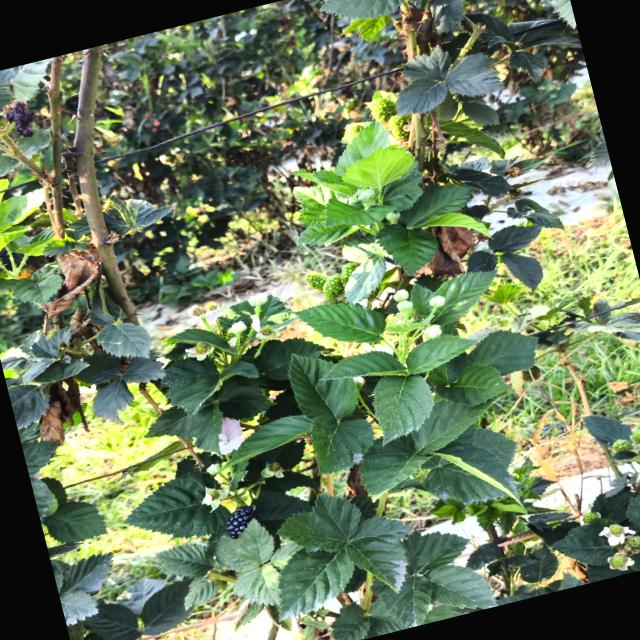boton: (248, 292, 268, 307), (423, 324, 442, 339), (228, 320, 246, 334), (394, 288, 409, 302), (206, 462, 222, 475), (429, 295, 445, 307), (397, 300, 412, 311)
maduro: (226, 505, 256, 538)
verde: (367, 98, 396, 122), (387, 115, 410, 140), (322, 275, 343, 298), (305, 272, 327, 290), (341, 262, 357, 282)
